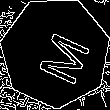M_NW: (23, 21, 87, 84)
